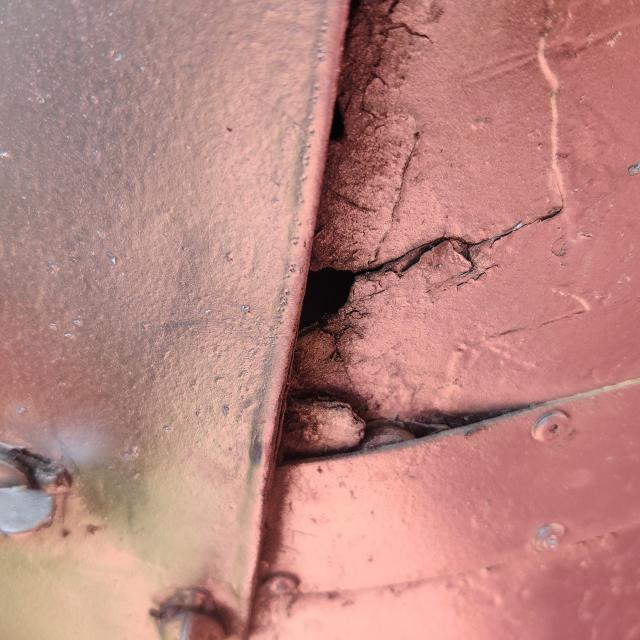crack: (269, 263, 422, 502)
